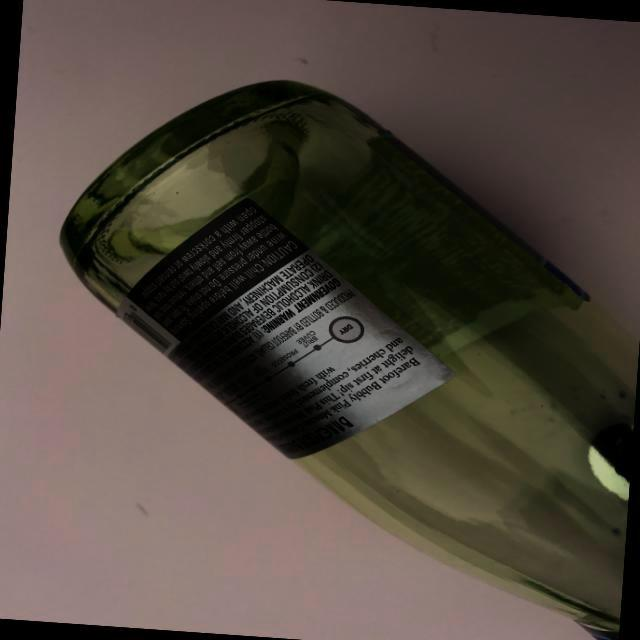glass: (19, 52, 640, 640)
